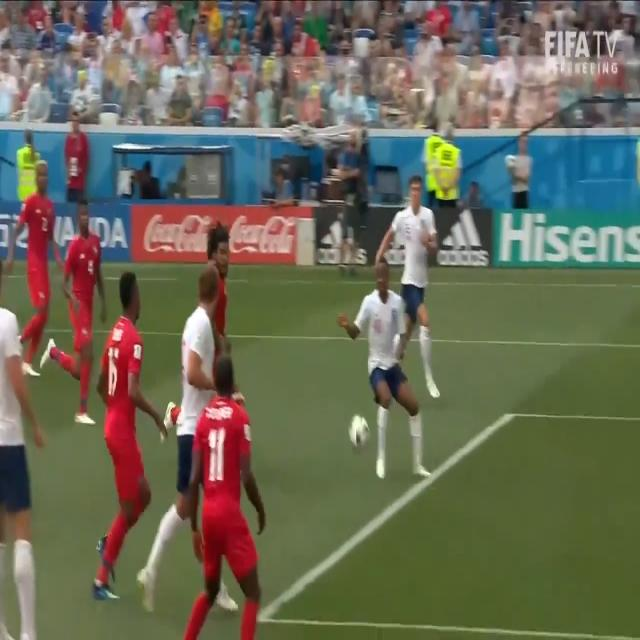ball: (348, 410, 372, 460)
player: (146, 265, 238, 603), (100, 267, 170, 601), (338, 256, 429, 477), (196, 358, 266, 640), (0, 253, 44, 640), (40, 196, 110, 427), (0, 152, 62, 378), (398, 170, 442, 403), (204, 217, 239, 350)
